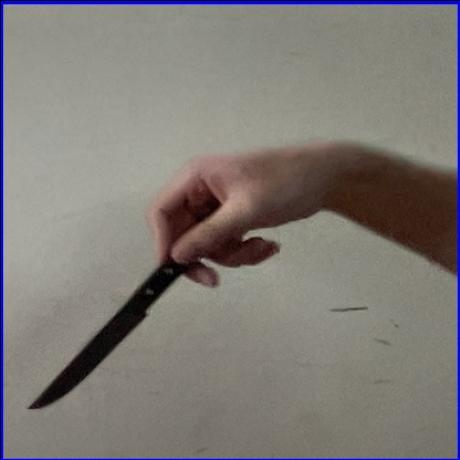1: (150, 136, 456, 286)
weapon: (22, 185, 264, 414)
